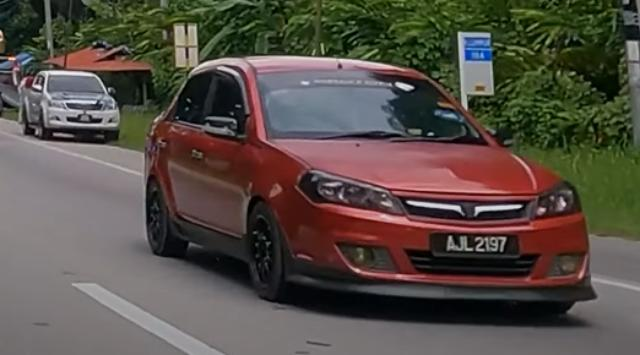License_Plate: (429, 232, 519, 260)
car: (143, 56, 599, 315)
